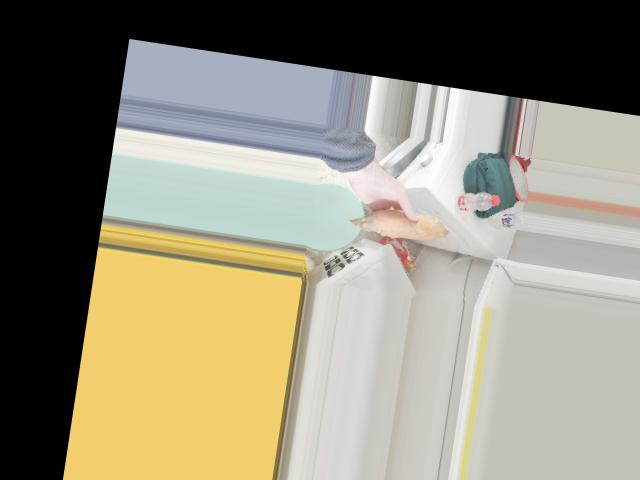sweet_potato: (355, 200, 439, 242)
